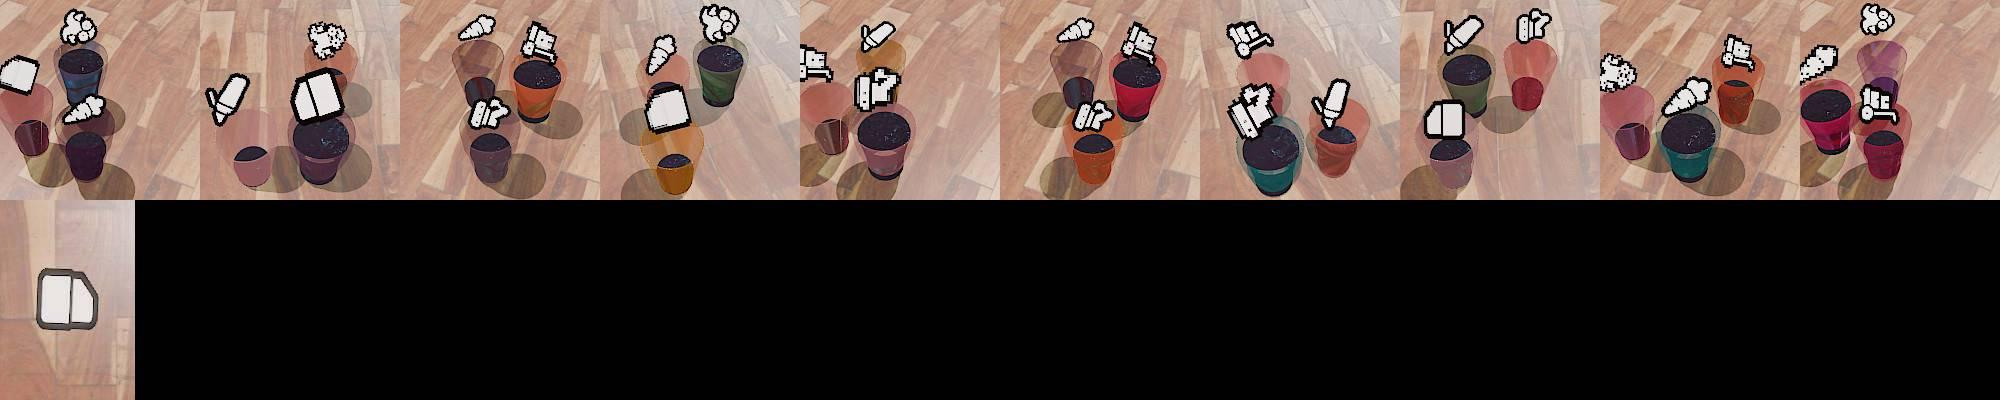icon: (34, 268, 101, 331), (290, 69, 346, 125), (1228, 82, 1278, 141), (643, 80, 693, 134), (205, 73, 250, 126), (1659, 73, 1712, 117), (852, 66, 901, 112), (1312, 75, 1351, 130), (1226, 18, 1272, 59), (1441, 14, 1483, 57), (1857, 82, 1902, 122), (1798, 42, 1841, 84), (1423, 98, 1466, 140), (520, 19, 560, 64), (0, 55, 41, 96), (698, 4, 740, 43), (1598, 51, 1638, 92), (1071, 97, 1116, 132), (1120, 20, 1158, 61), (306, 22, 347, 60), (466, 94, 510, 129), (1718, 33, 1756, 70), (60, 9, 98, 46), (797, 43, 834, 82), (61, 93, 107, 124), (645, 34, 677, 76), (1517, 8, 1552, 43), (860, 20, 897, 55), (1858, 3, 1897, 36), (459, 13, 496, 41), (1057, 17, 1096, 43)
